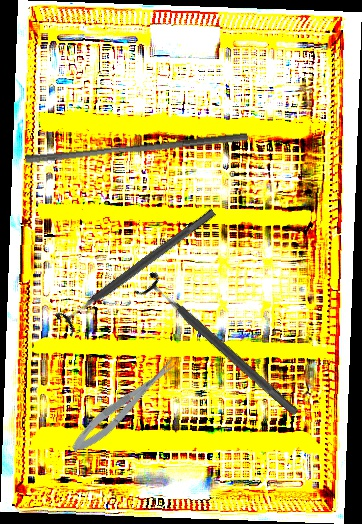Fixation Ring: (133, 268, 307, 426), (54, 200, 223, 338)
Micro Scissor: (66, 356, 182, 458)
Pusher: (24, 123, 249, 172)
